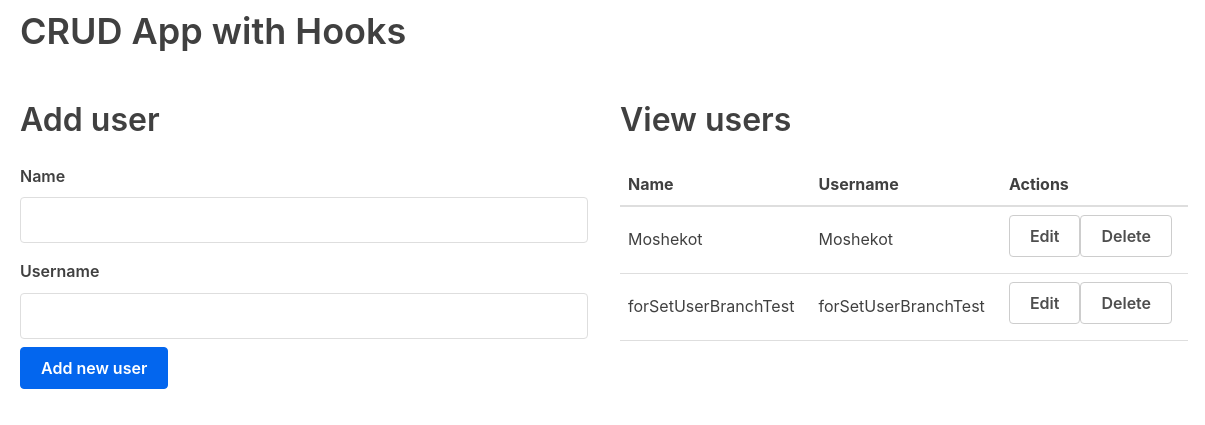
it: Creating a user › Displays a user in a list
Type "MoshekotName" into the field with test id "addNameText". click: (304, 220)
box: [20,197,588,243]
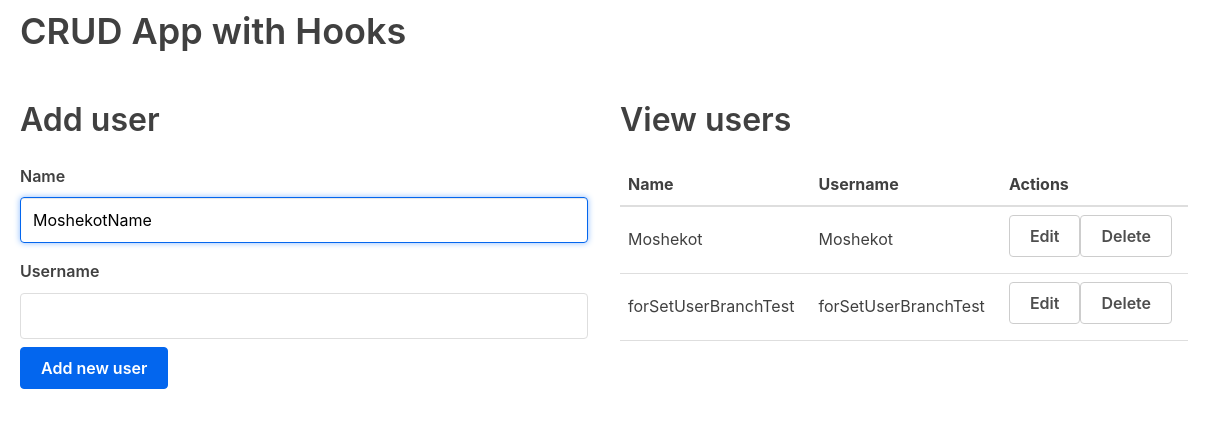
Type "MoshekotUser" into the field with test id "addUsernameText". click: (304, 316)
box: [20,293,588,339]
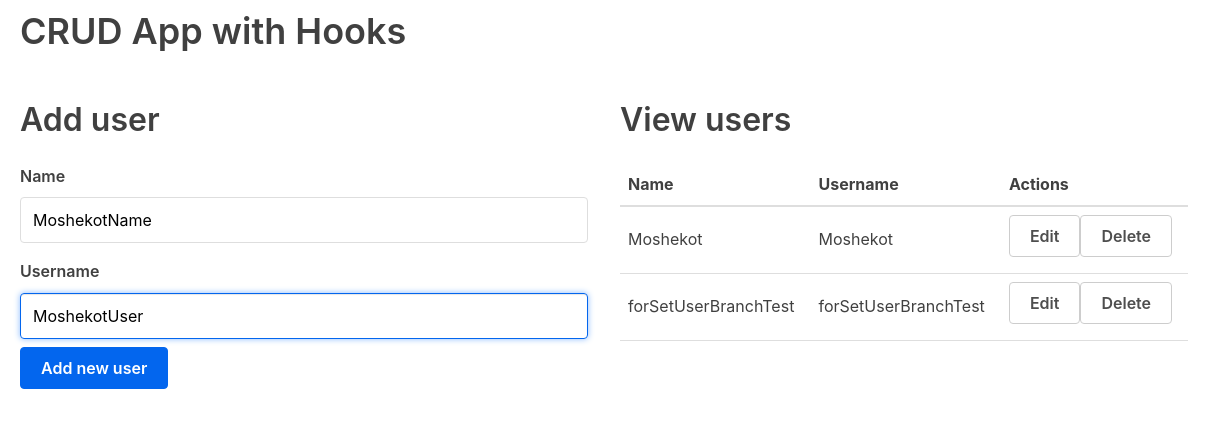
Click the button with test id "addNewUserButton". click: click(94, 368)
box: [20,347,168,389]
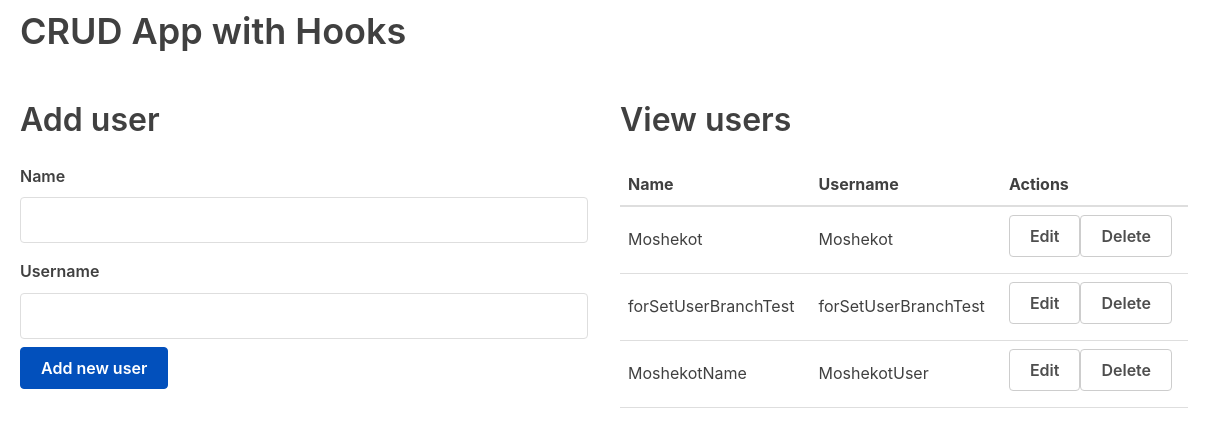
Expected: the text "MoshekotName" is shown, [620,341,810,408]
